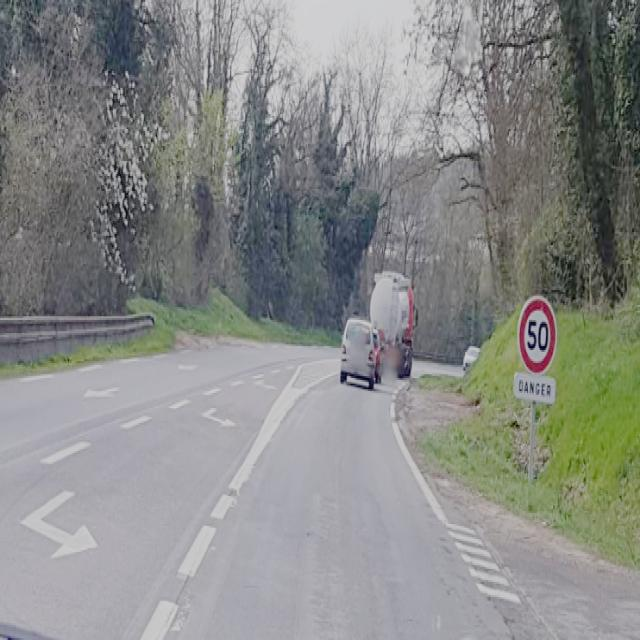speed_50: (519, 298, 556, 373)
